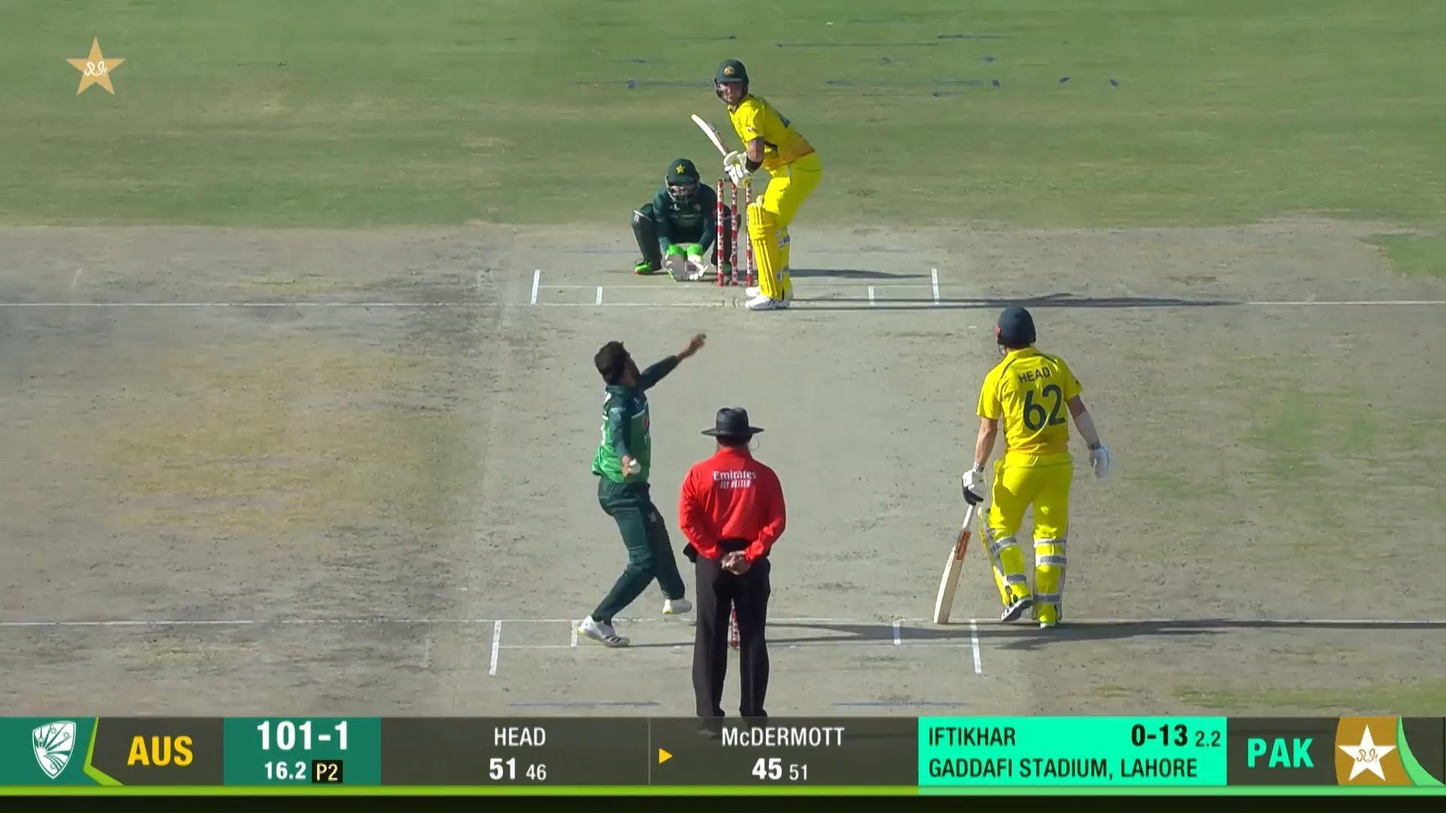BM 1: (691, 58, 824, 311)
BO: (578, 330, 710, 650)
